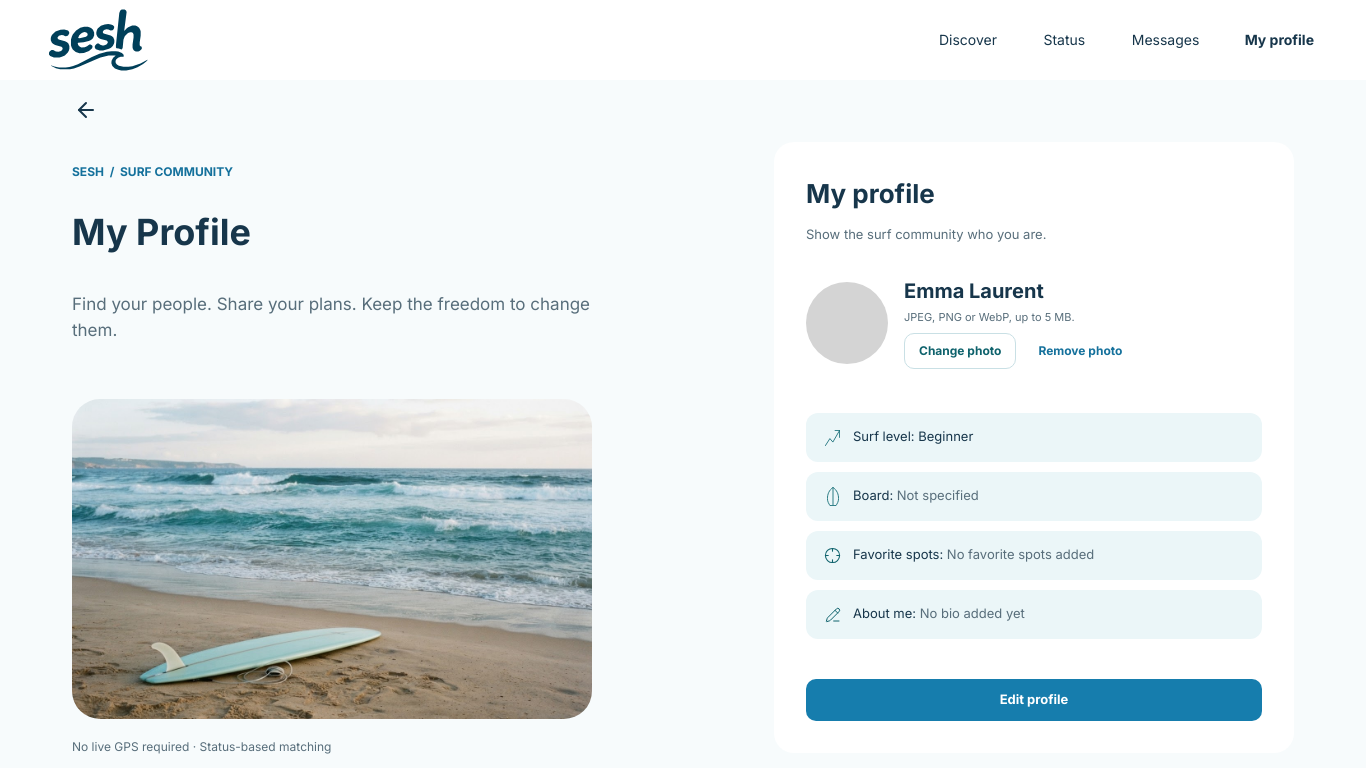
Test case: My Profile picture › removing the picture shows the initials again
Expected: the text "Emma Laurent" is shown, [904,278,1044,302]
Click the button "Remove photo" at (1080, 351), box [1024,333,1136,369]
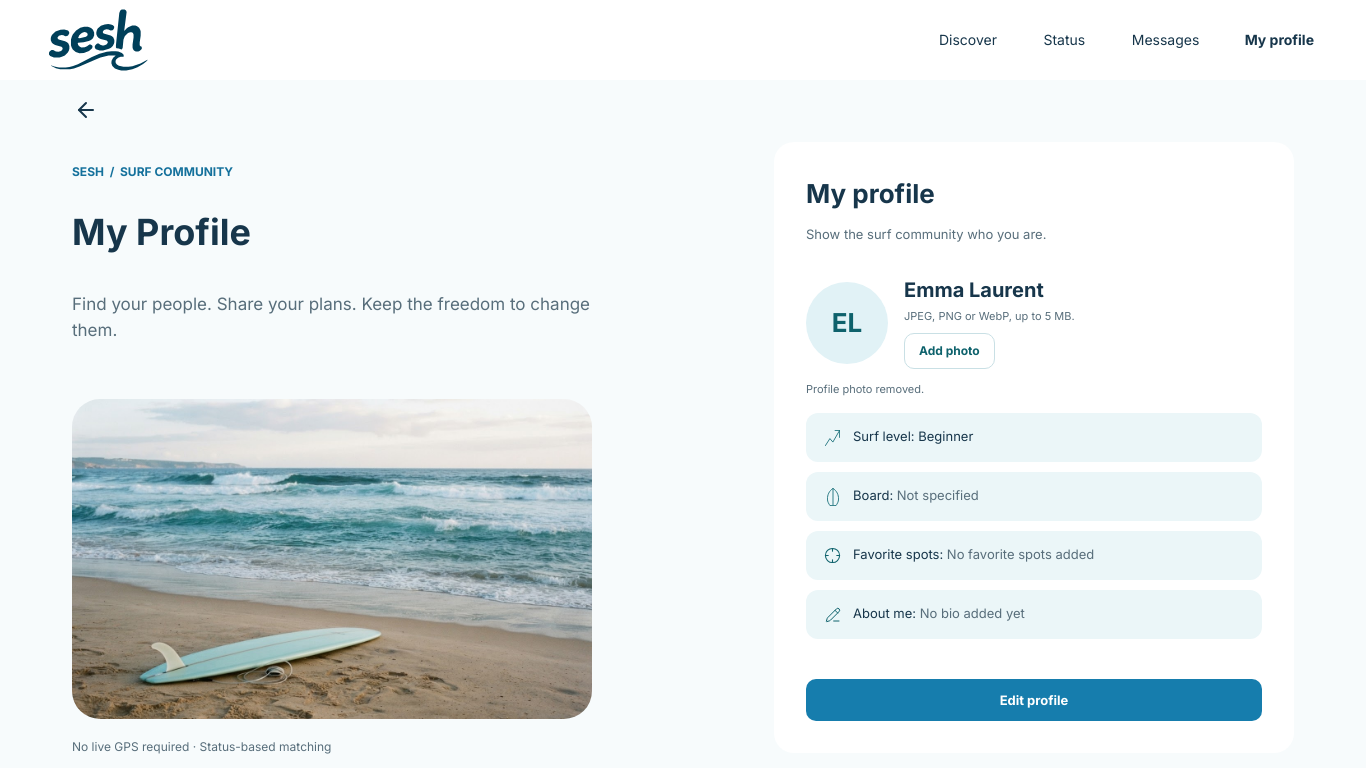
Expected: the text "EL" is shown, [806,282,888,364]
Expected: the text "Profile photo removed." is shown, [806,382,924,396]
